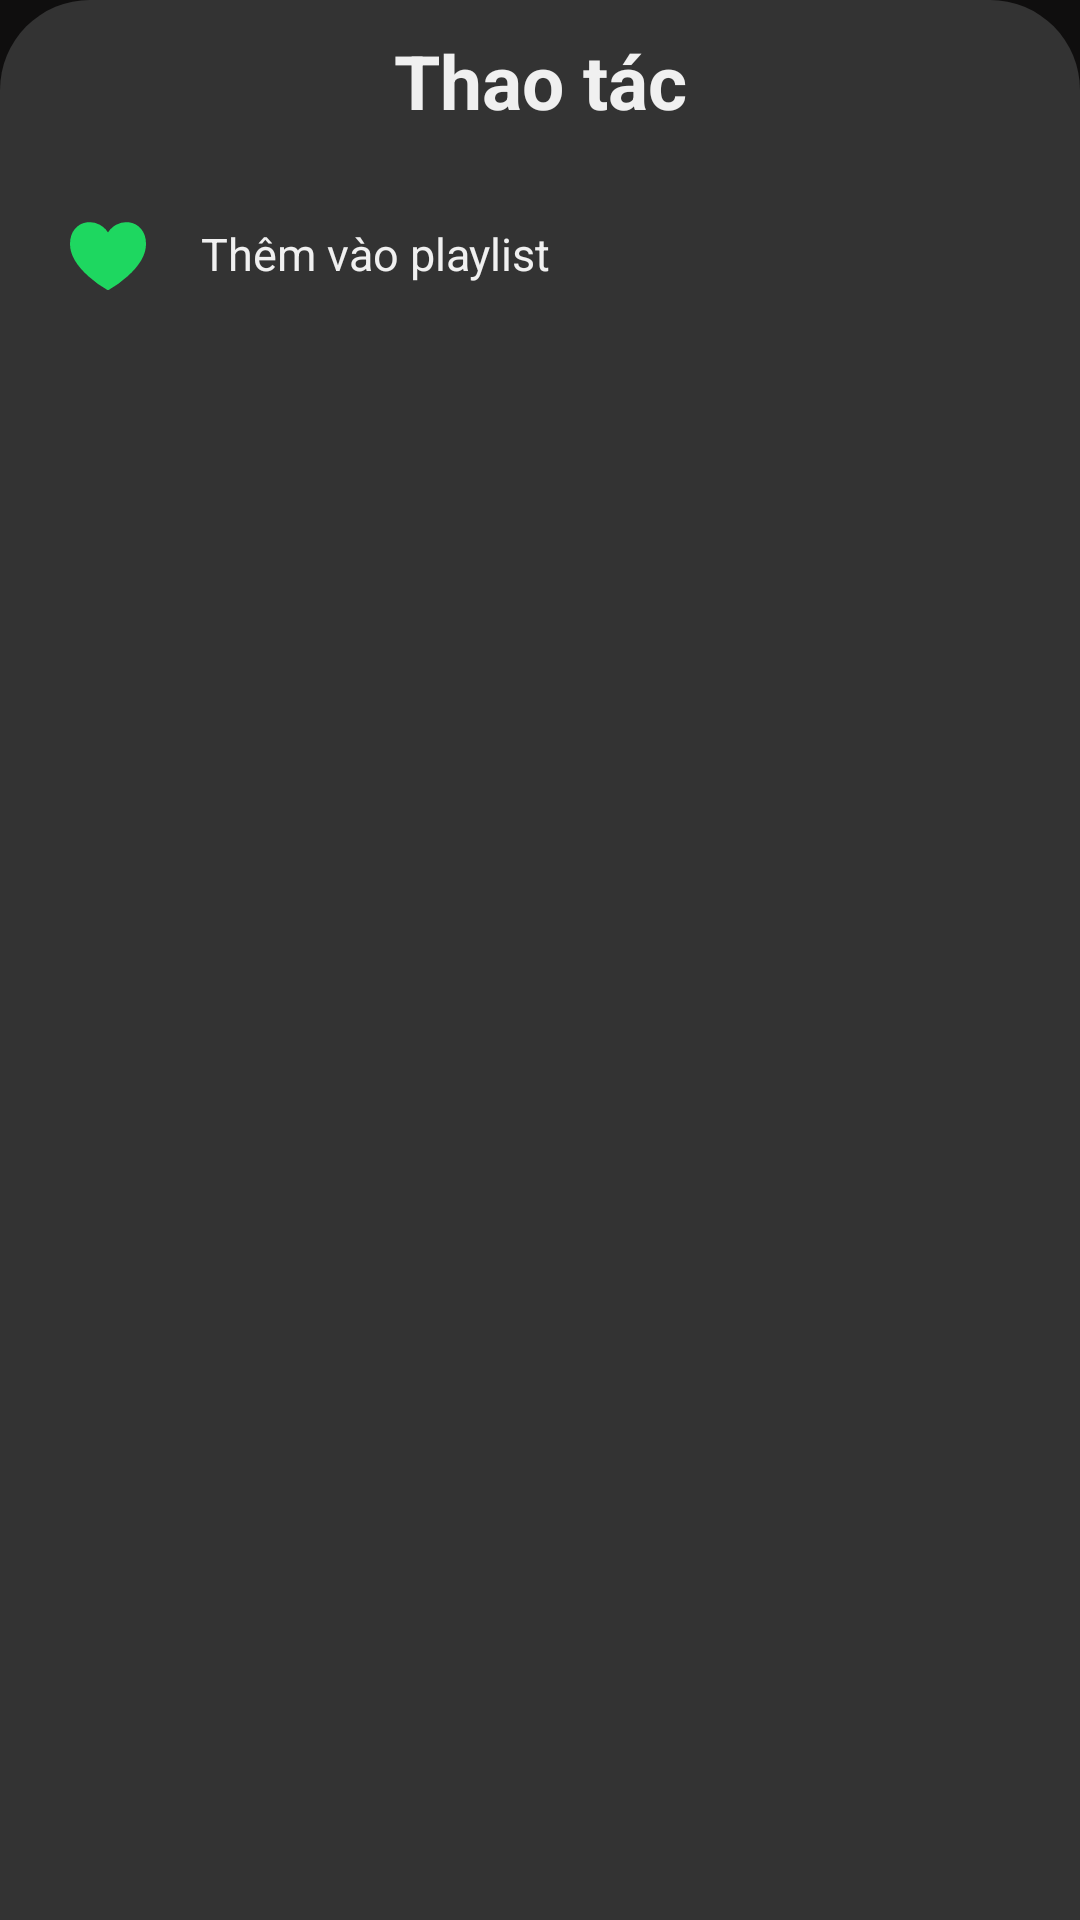

Icons on this 1080 × 1920 Android screen, each with the point to tap as (x=x, y=y):
liked heart: (x=108, y=256)
